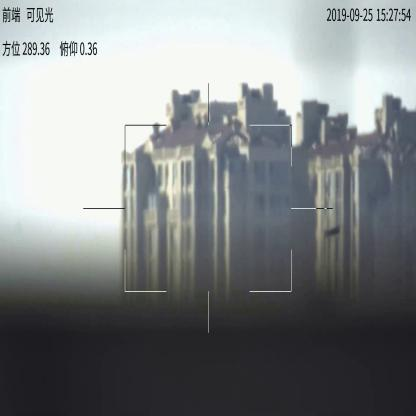uav: (325, 223, 340, 238)
